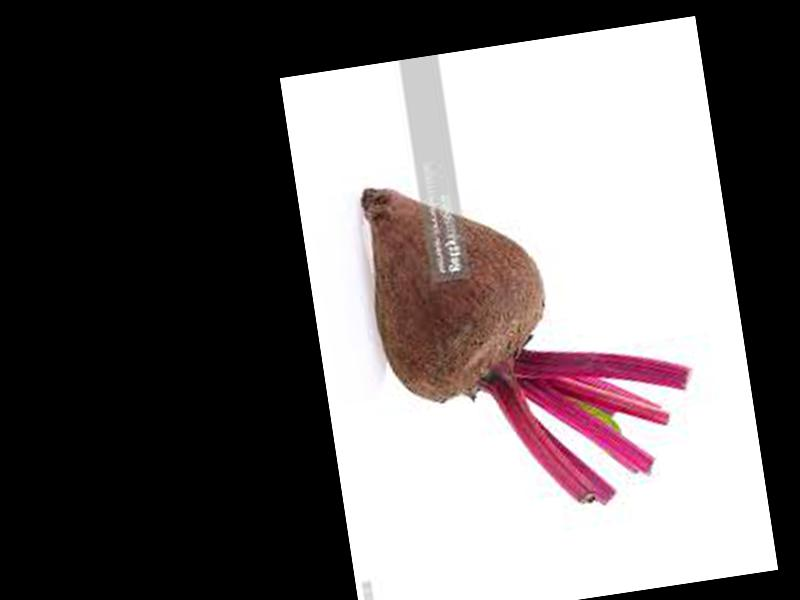Beet: (358, 145, 707, 533)
